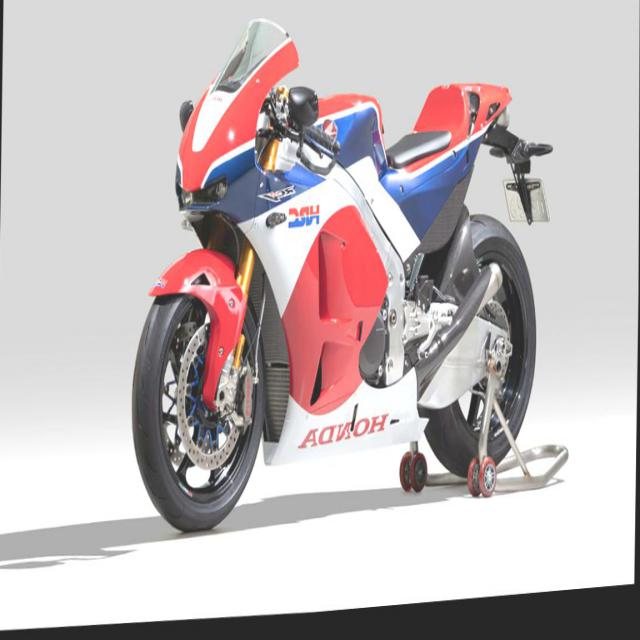HRC RCV 213: (128, 0, 549, 552)
